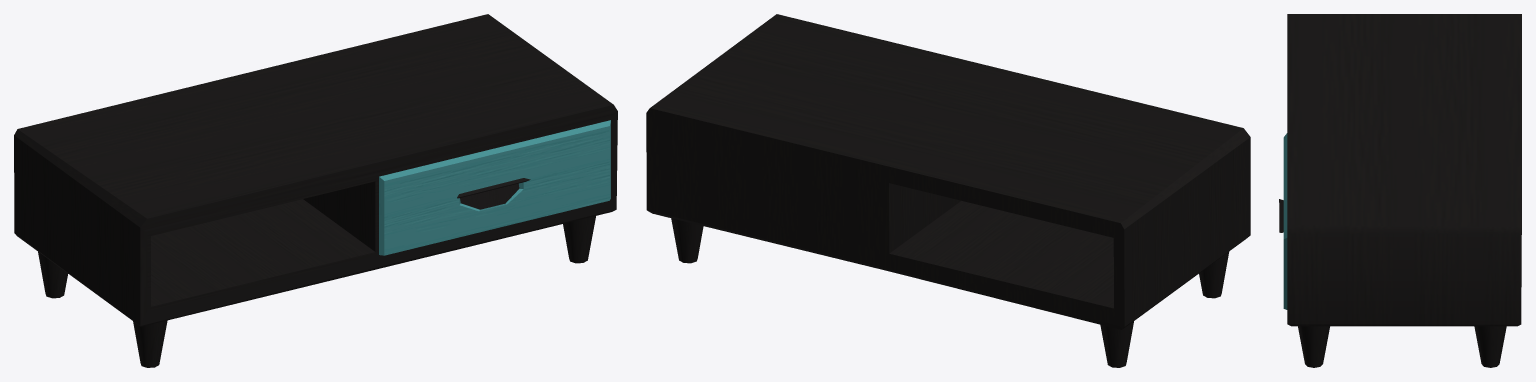
File: Coffee_Table_06.FBX
3 renders of one model, left to right at view 1: azimuth 30°, elevation 25°; view 2: azimuth 150°, elevation 25°; view 3: azimuth 270°, elevation 25°, orthographic. The views are drawn at different scales.
Visible parts, largest first — view 1: Coffee_table; view 2: Coffee_table; view 3: Coffee_table.
Part boxes in pixels (box(x1,y1,x2,y2)): Coffee_table: box(14, 14, 617, 367); Coffee_table: box(646, 14, 1250, 367); Coffee_table: box(1279, 14, 1521, 367).
Bounding box in the file's own units: 283 × 90.71 × 134.
